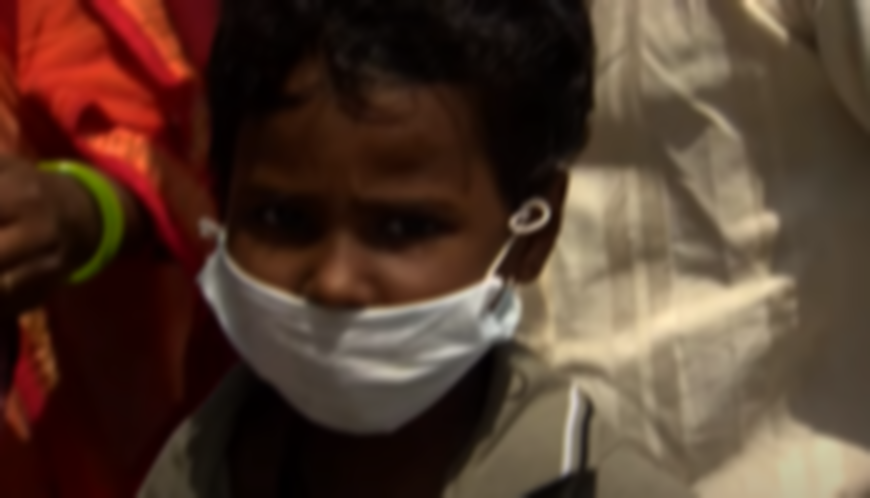mask_weared_incorrect: (194, 7, 562, 436)
